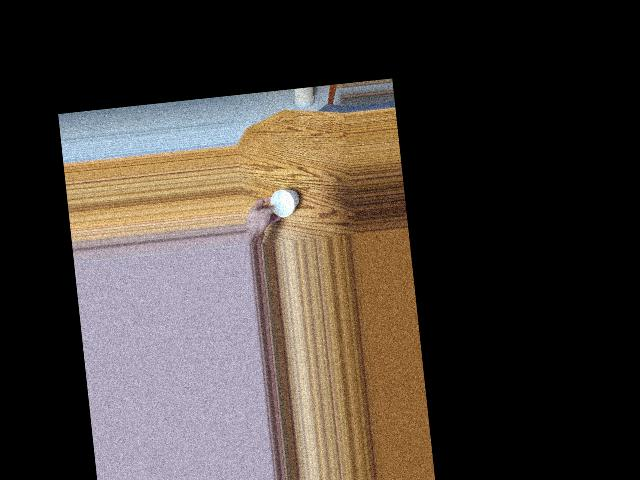cotage: (266, 188, 296, 220)
